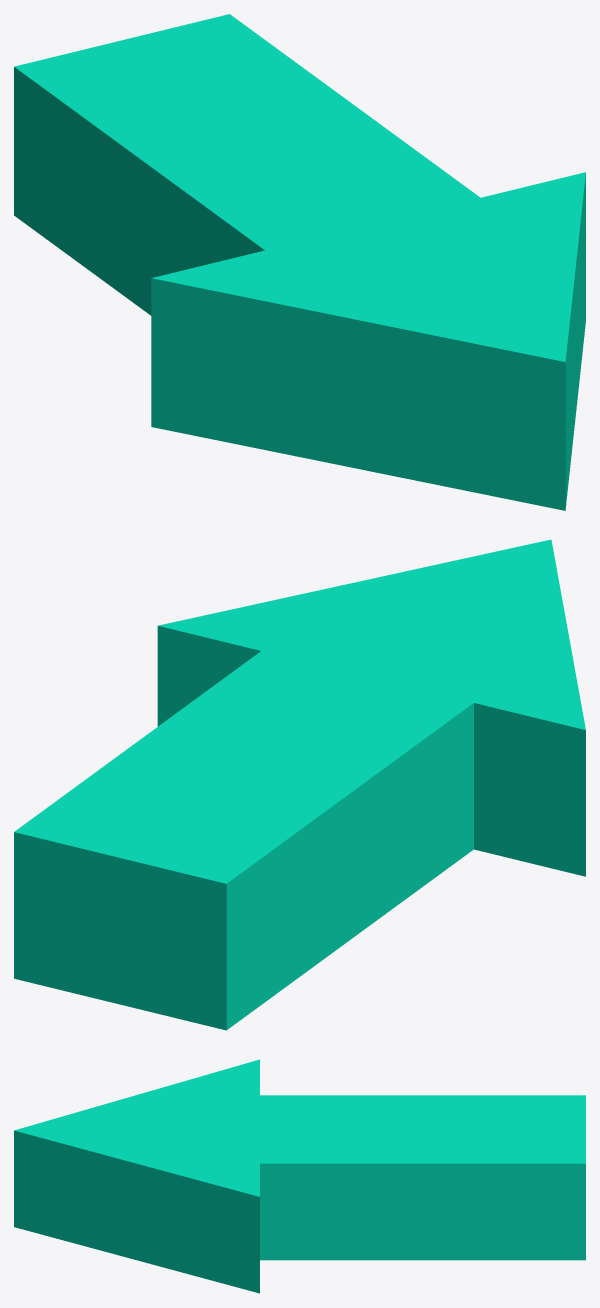
File: arrow.fbx
3 views of the same model, one above another, from view 1: azimuth 30°, elevation 25°; view 2: azimuth 150°, elevation 25°; view 3: azimuth 270°, elevation 25° (orthographic). The views are drawn at different scales.
Visible parts, largest first — view 1: Arrow; view 2: Arrow; view 3: Arrow.
Part boxes in pixels (x1,y1,x2,y2): Arrow: [14, 14, 585, 510]; Arrow: [14, 539, 585, 1030]; Arrow: [14, 1059, 585, 1293].
Size of the model in its own units: 200 by 65.41 by 351.
